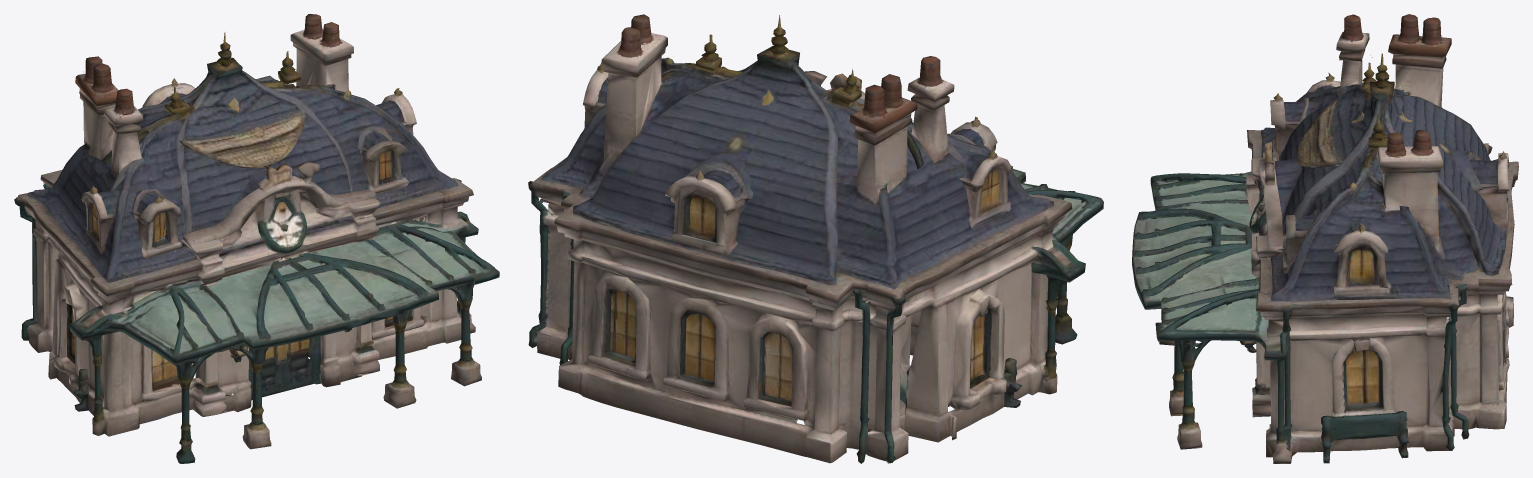
File: rush_station.glb
3 renders of one model, left to right at view 1: azimuth 30°, elevation 25°; view 2: azimuth 150°, elevation 25°; view 3: azimuth 270°, elevation 25°, orthographic. The views are drawn at different scales.
Visible parts, largest first — view 1: classic__rush_station__native_mobile; view 2: classic__rush_station__native_mobile; view 3: classic__rush_station__native_mobile.
Boxes of the visible parts, box(x1,y1,x2,y2) form: classic__rush_station__native_mobile: box(14, 14, 499, 463); classic__rush_station__native_mobile: box(528, 14, 1103, 463); classic__rush_station__native_mobile: box(1132, 14, 1518, 463).
Size of the model in its own units: 1 by 0.7733 by 0.8265.
Materials: 1 (1 with a texture image).
